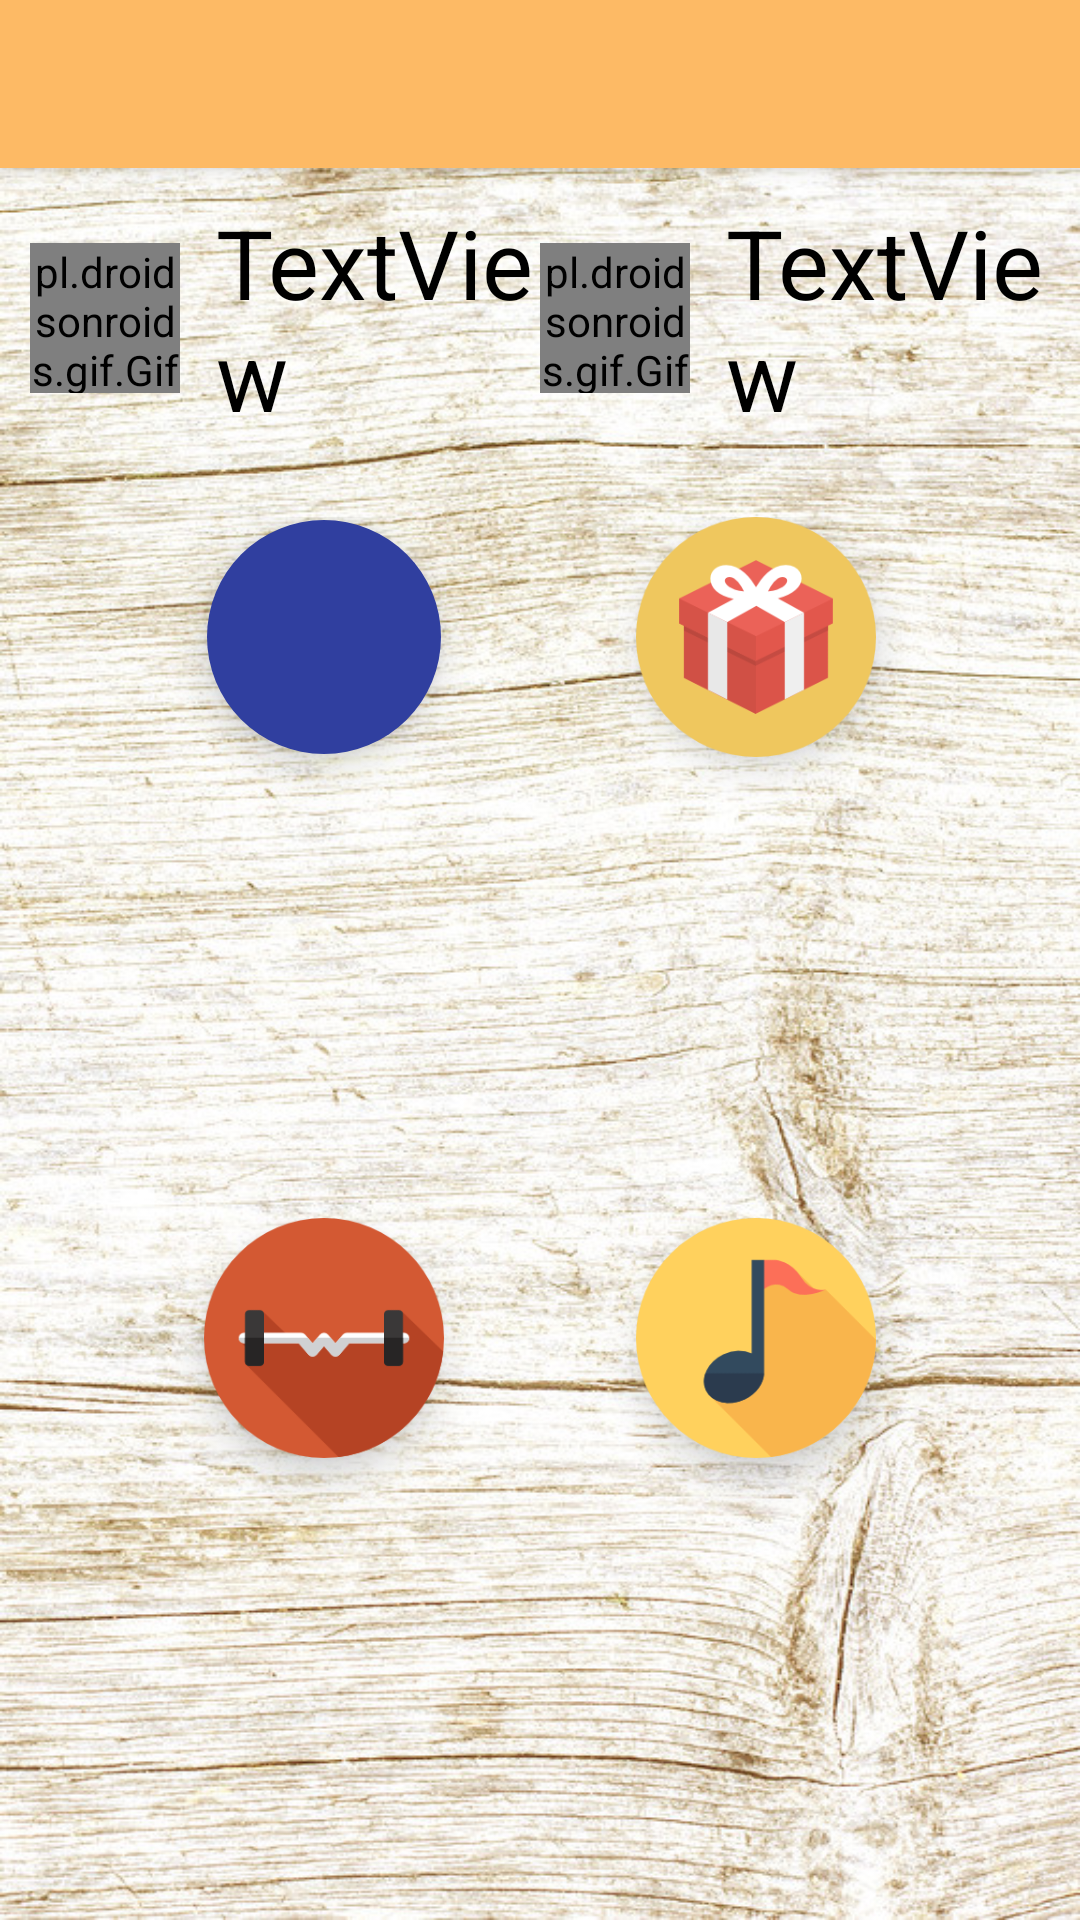

Icons on this 1080px×1920px Android screen, each with the point to tap as (x=x, y=y):
challenge: (x=324, y=1338)
rewards: (x=756, y=637)
tunes: (x=756, y=1338)
